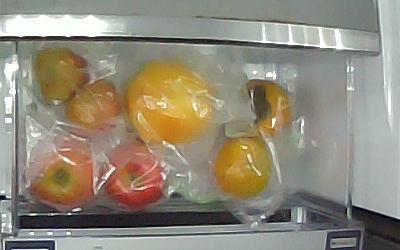apple_vinyl: (30, 143, 99, 206), (102, 143, 166, 206)
grapefruit_vinyl: (125, 60, 219, 146)
persimmon_vinyl: (213, 135, 272, 197), (240, 80, 291, 137)
prune_vinyl: (34, 48, 91, 106), (64, 80, 119, 139)
